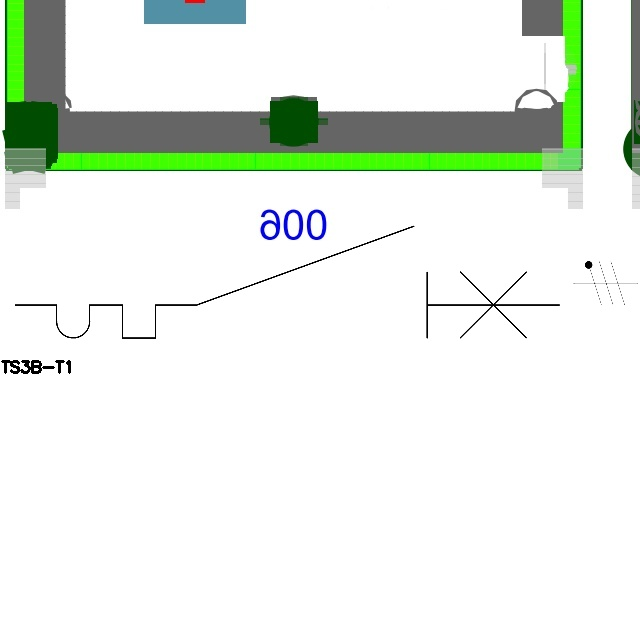interruptor_termomagnetico: (1, 212, 573, 352)
